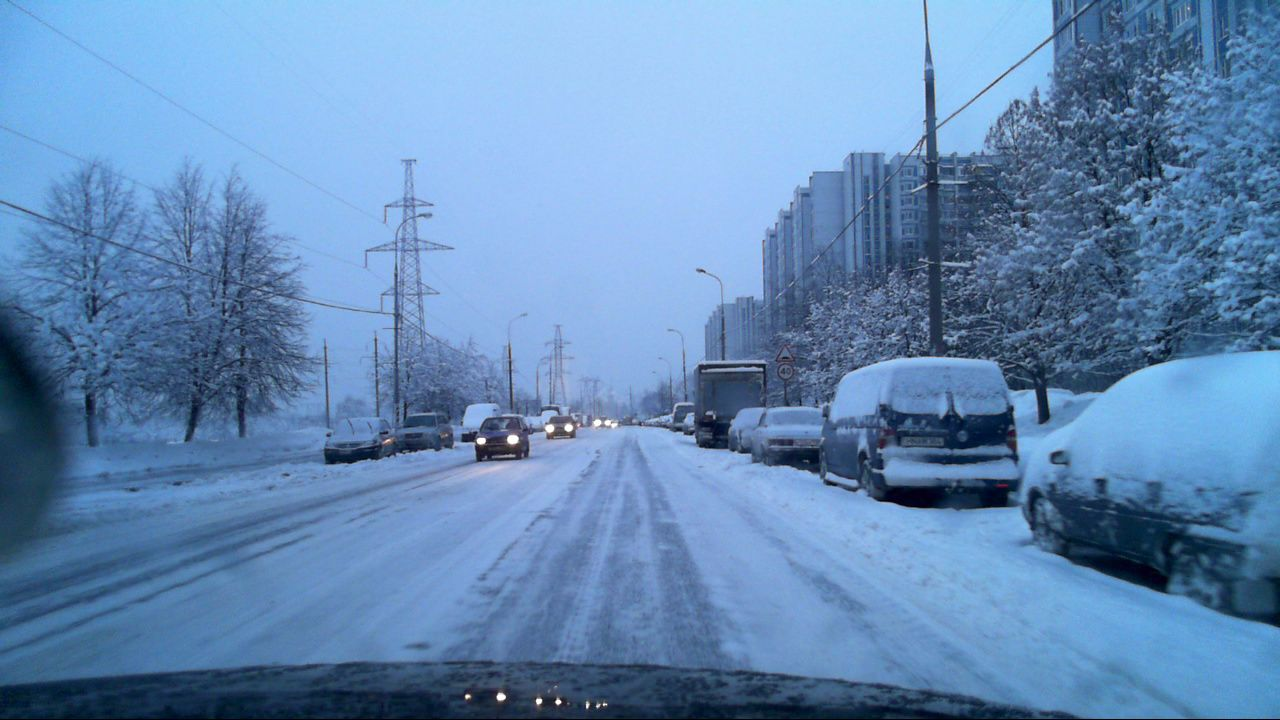speed_warning_40: (777, 362, 796, 380)
